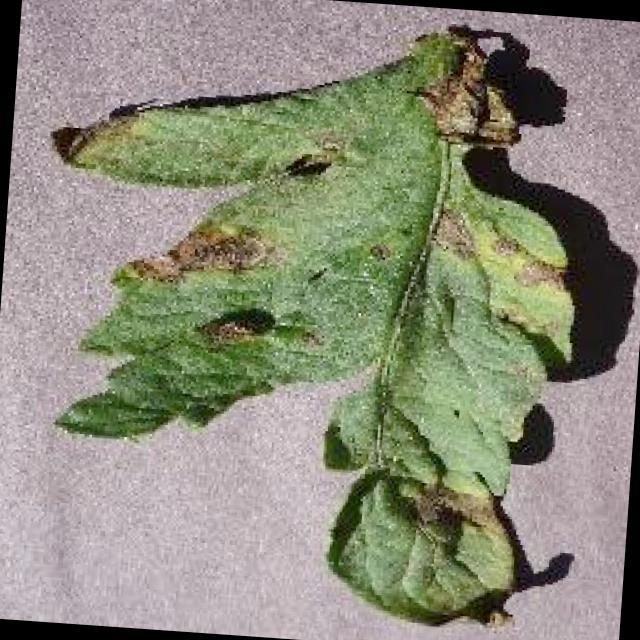Tomato Early blight leaf: (25, 1, 594, 640)
